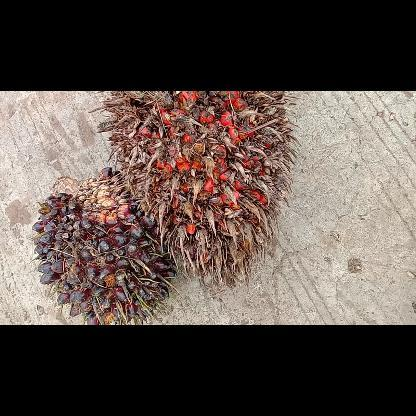TBS mentah: (31, 166, 178, 324)
Terlalu masak: (90, 90, 300, 286)
